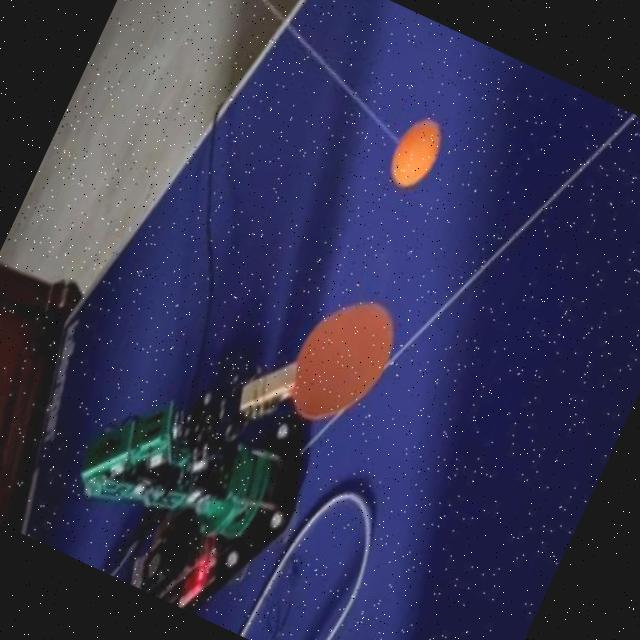ping-pong-ball: (384, 110, 451, 195)
